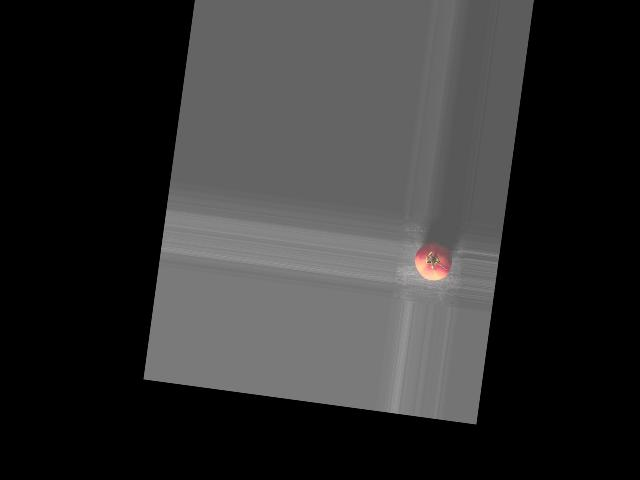tomato: (412, 240, 453, 282)
